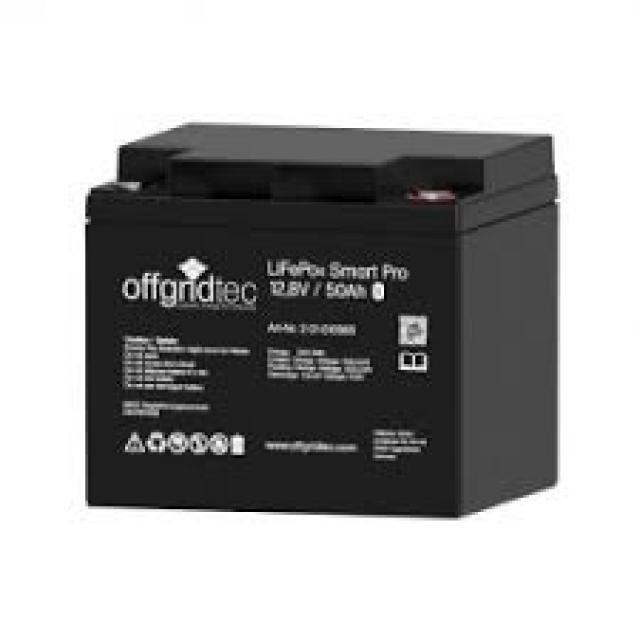battery: (89, 112, 558, 526)
